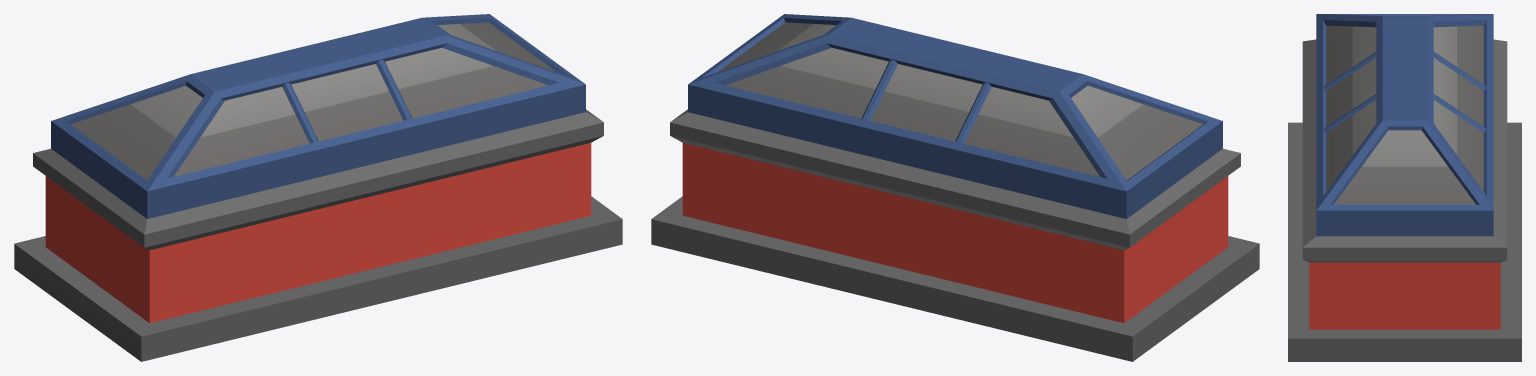
File: RoofLights_2_A.fbx
3 renders of one model, left to right at view 1: azimuth 30°, elevation 25°; view 2: azimuth 150°, elevation 25°; view 3: azimuth 270°, elevation 25°, orthographic. The views are drawn at different scales.
Parts seen in each view (by area): view 1: RoofLights_2_A; view 2: RoofLights_2_A; view 3: RoofLights_2_A.
Boxes of the visible parts, box(x1,y1,x2,y2) form: RoofLights_2_A: box(14, 14, 622, 361); RoofLights_2_A: box(651, 14, 1259, 361); RoofLights_2_A: box(1288, 14, 1521, 361).
Size of the model in its own units: 216 by 86.65 by 98.88.
